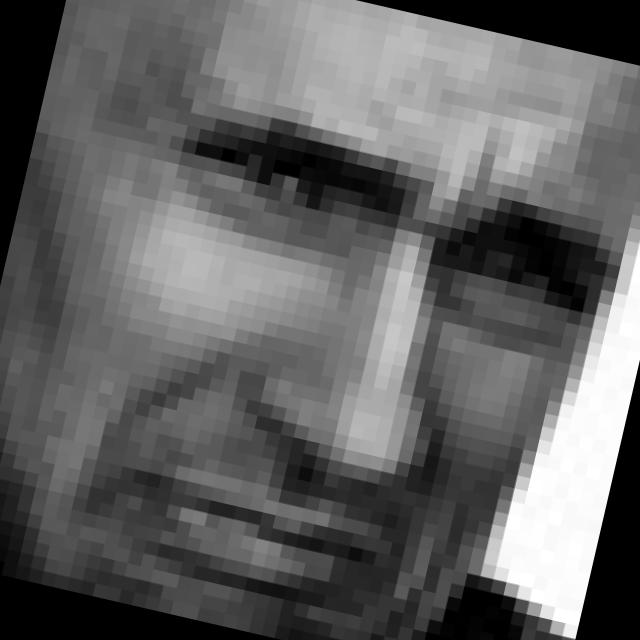disgust: (52, 83, 622, 640)
